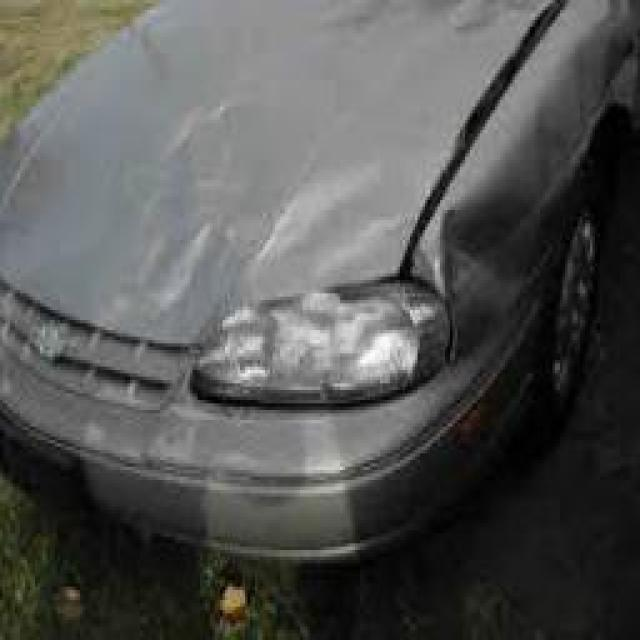rapairable: (134, 110, 295, 287), (418, 175, 539, 334), (360, 5, 522, 52), (598, 23, 640, 122)
